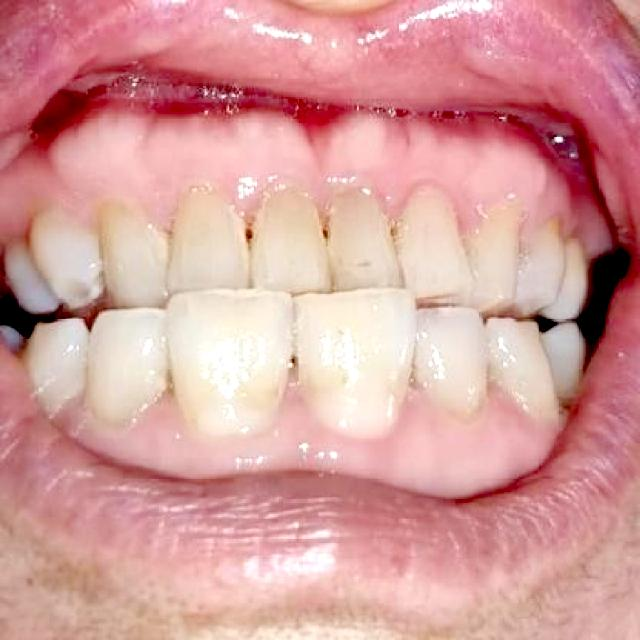Plaque: (81, 159, 510, 237), (263, 374, 338, 447), (393, 387, 446, 432), (132, 390, 186, 433), (61, 398, 107, 442), (480, 384, 525, 424)
